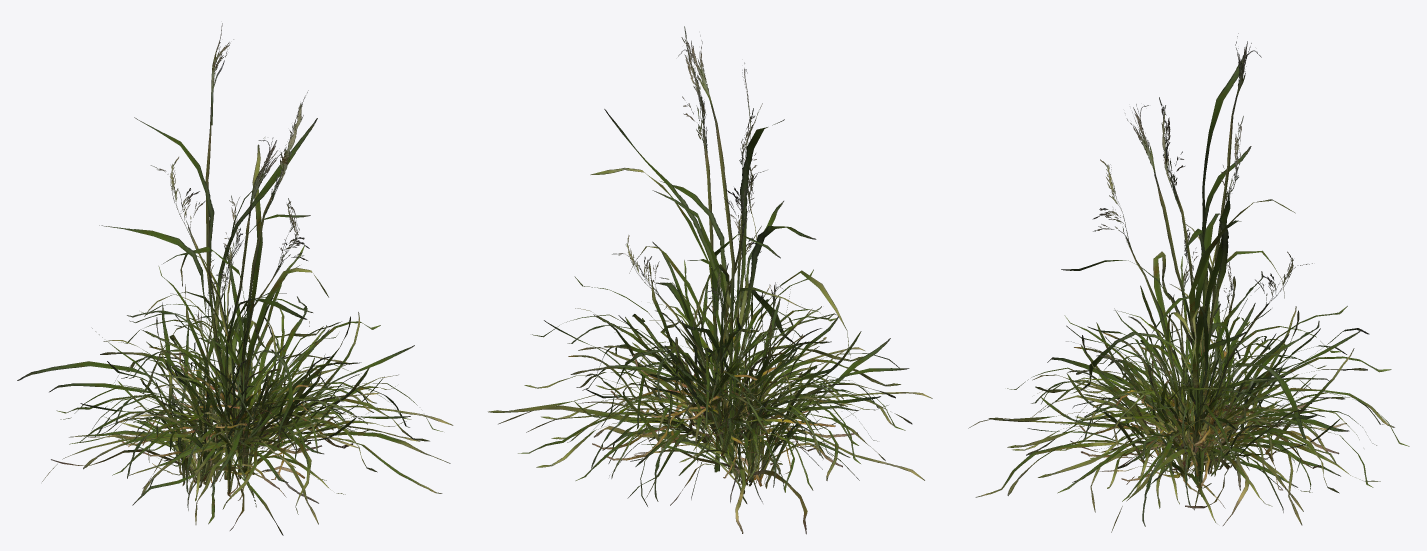
The model's file is sample.gltf.
3 views of the same model, side by side, from view 1: azimuth 30°, elevation 25°; view 2: azimuth 150°, elevation 25°; view 3: azimuth 270°, elevation 25° (orthographic). The views are drawn at different scales.
Visible parts, largest first — view 1: grass_large_b, grass_mid_b, grass_tall_a, grass_tall_b, grass_small_b, grass_tiny_a; view 2: grass_large_b, grass_mid_b, grass_tall_a, grass_tall_b, grass_small_b; view 3: grass_large_b, grass_tall_b, grass_tall_a, grass_mid_b, grass_small_b.
Boxes of the visible parts, x1=… form: grass_large_b: x1=17, y1=245, x2=453, y2=524; grass_mid_b: x1=51, y1=240, x2=333, y2=535; grass_tall_a: x1=99, y1=23, x2=317, y2=479; grass_tall_b: x1=143, y1=90, x2=328, y2=479; grass_small_b: x1=110, y1=335, x2=367, y2=524; grass_tiny_a: x1=196, y1=305, x2=285, y2=496; grass_large_b: x1=488, y1=226, x2=932, y2=506; grass_mid_b: x1=578, y1=208, x2=890, y2=534; grass_tall_a: x1=601, y1=35, x2=816, y2=473; grass_tall_b: x1=590, y1=26, x2=850, y2=472; grass_small_b: x1=602, y1=299, x2=859, y2=502; grass_large_b: x1=968, y1=224, x2=1409, y2=532; grass_tall_b: x1=1080, y1=97, x2=1295, y2=487; grass_tall_a: x1=1061, y1=33, x2=1312, y2=479; grass_mid_b: x1=1026, y1=220, x2=1349, y2=525; grass_small_b: x1=1039, y1=306, x2=1340, y2=508.
Bounding box in the file's own units: 0.2841 × 0.3225 × 0.2757.
1 material, 1 textured.
